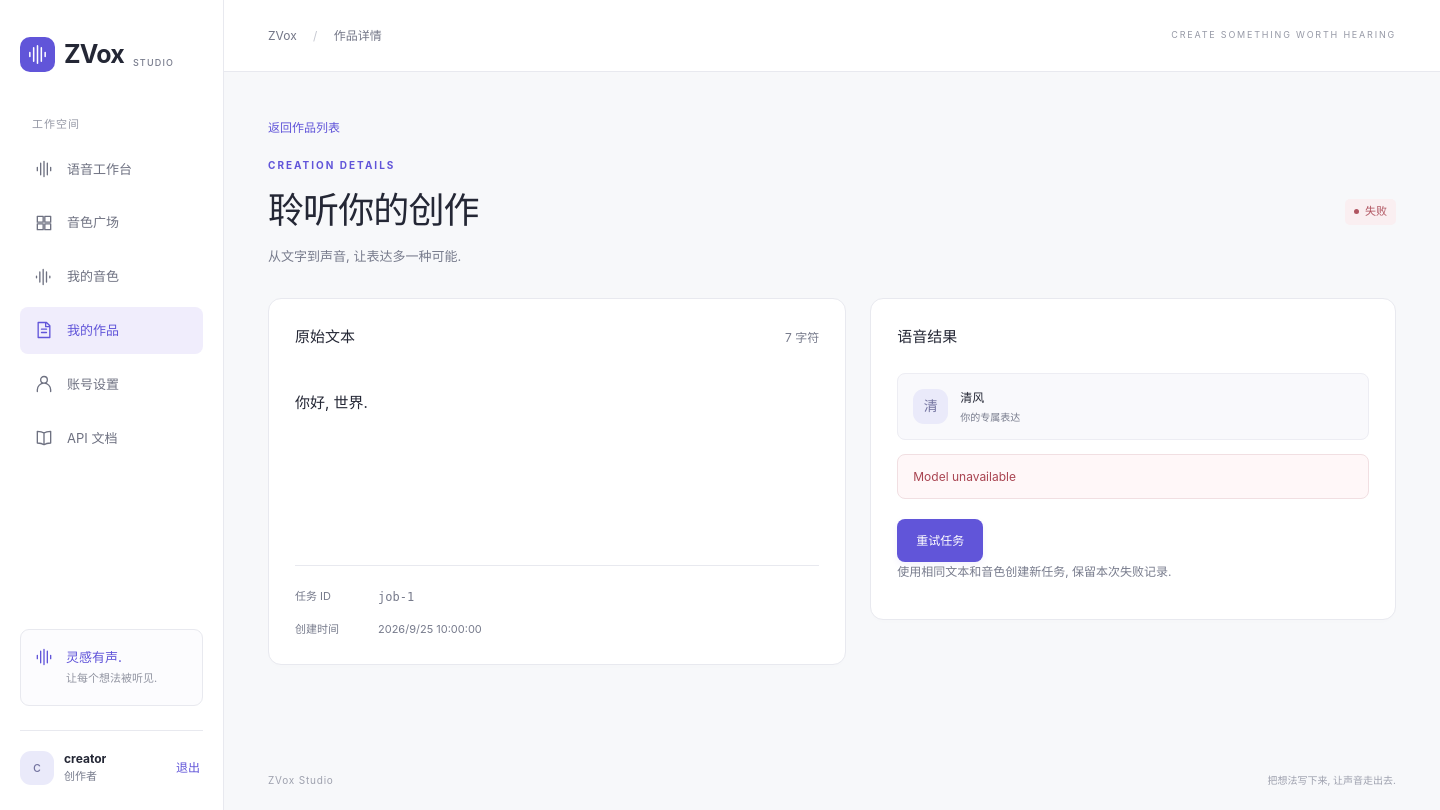
application flows › keeps a failed job available when retry returns 404
Click the button "重试任务": (940, 540) [897,519,983,562]
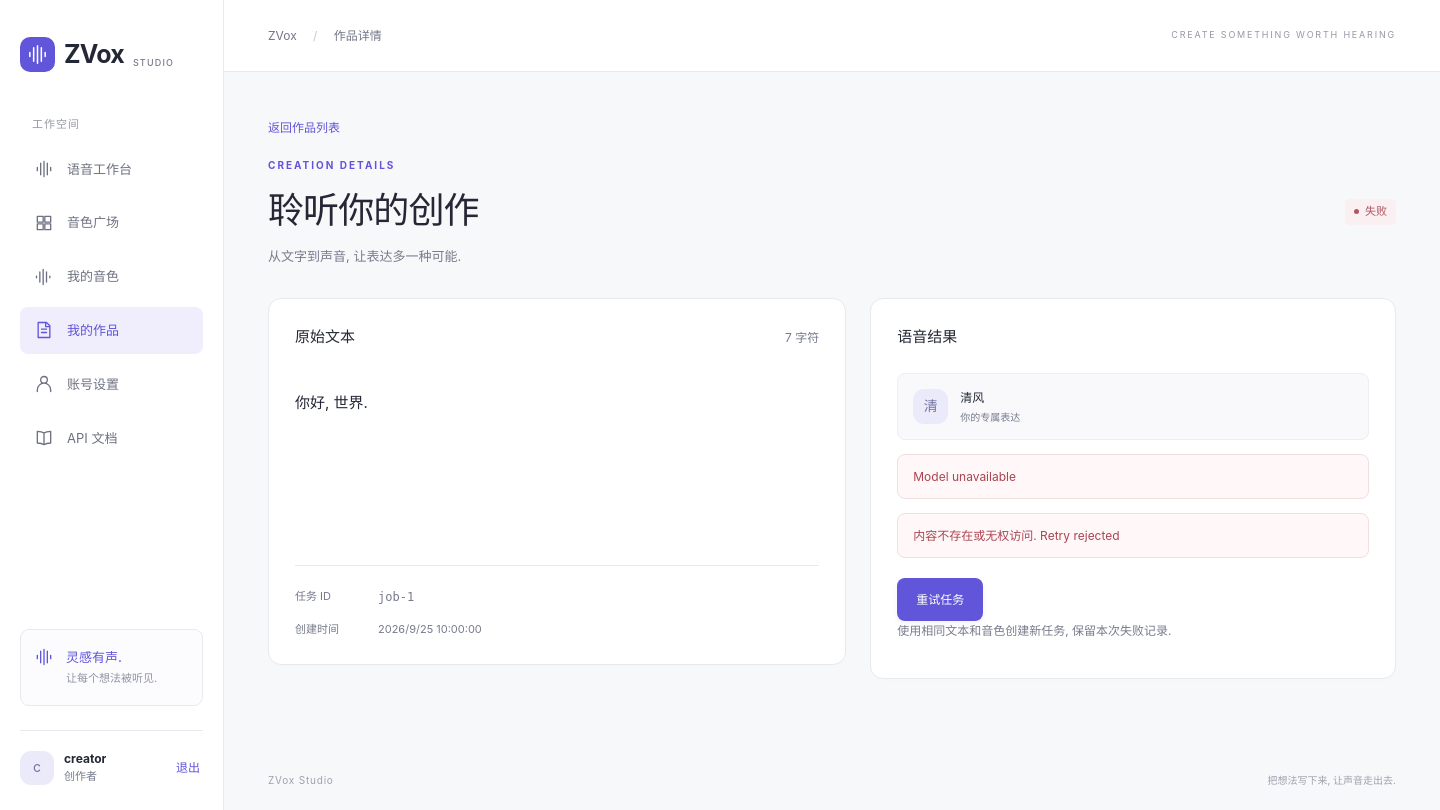
Expected: the text "job-1" is shown, [378,590,414,604]
Now the number of messages is 2, box [897,454,1369,499]; [897,513,1369,558]
